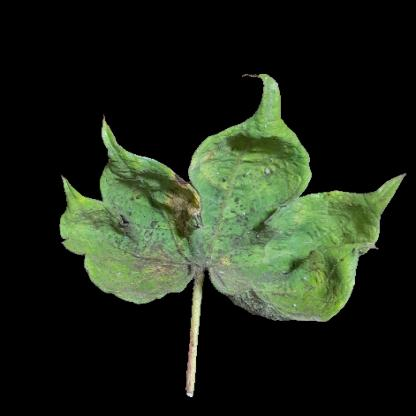curl_stage1: (298, 197, 369, 243), (200, 143, 286, 180), (315, 243, 355, 277), (318, 273, 348, 309), (65, 197, 97, 216)
sooty: (140, 228, 286, 308), (213, 195, 281, 232), (99, 207, 144, 251), (170, 198, 201, 235)
